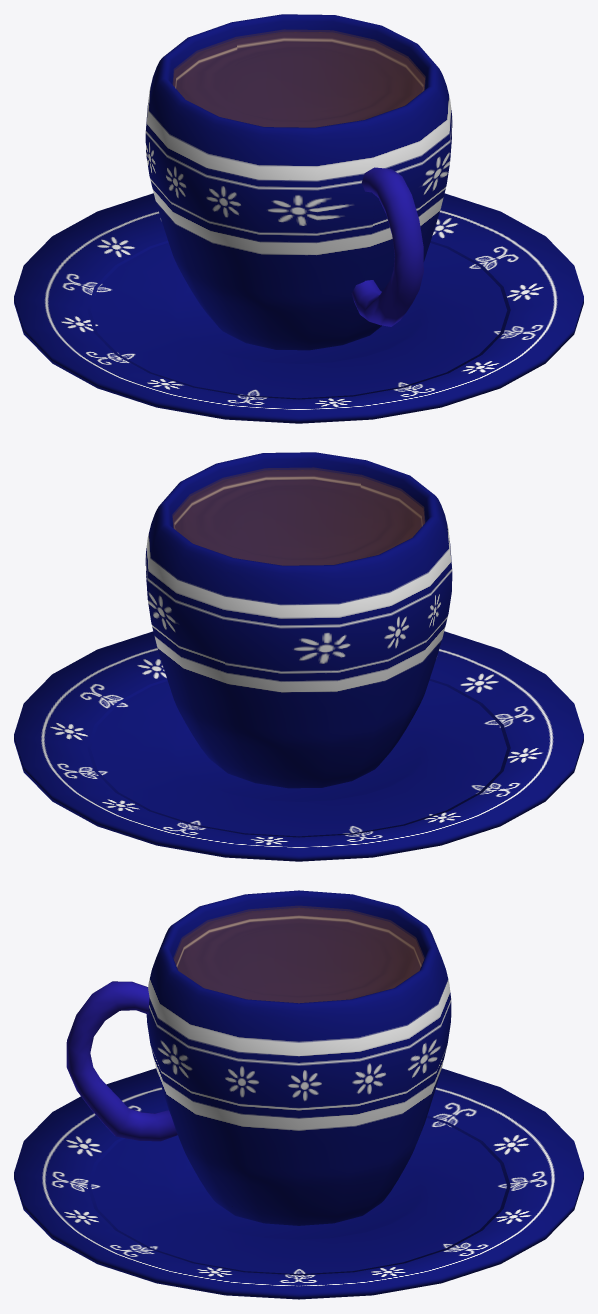
Rendered from TeaCup-1.fbx.
3 views of the same model, one above another, from view 1: azimuth 30°, elevation 25°; view 2: azimuth 150°, elevation 25°; view 3: azimuth 270°, elevation 25° (orthographic).
Parts seen in each view (by area): view 1: TeaCupBody.001, TeaCupPlate.001, Tea.001; view 2: TeaCupBody.001, TeaCupPlate.001, Tea.001; view 3: TeaCupBody.001, TeaCupPlate.001, Tea.001.
Boxes of the visible parts, x1,y1,x2,y2 form: TeaCupBody.001: (145,14,452,350); TeaCupPlate.001: (14,193,583,423); Tea.001: (173,29,425,127); TeaCupBody.001: (145,452,452,788); TeaCupPlate.001: (14,631,583,861); Tea.001: (172,467,424,565); TeaCupBody.001: (66,890,451,1225); TeaCupPlate.001: (14,1068,583,1299); Tea.001: (173,906,424,1003).
Bounding box in the file's own units: 721 × 1469 × 1469.
